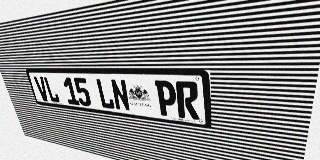1: (61, 77, 80, 105)
5: (73, 78, 92, 107)
L: (95, 78, 115, 110), (43, 77, 60, 103)
N: (110, 79, 131, 112)
P: (154, 80, 178, 117)
R: (175, 81, 199, 120)
V: (33, 76, 50, 102)
